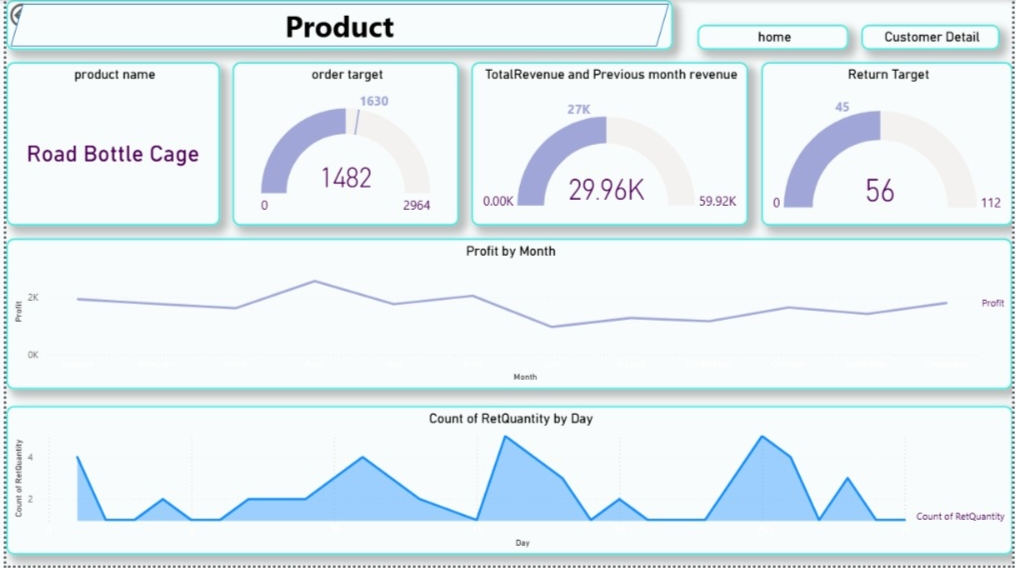

This screenshot's page, from the dashboard's own definition file:
{"tool":"powerbi","page":{"name":"product","canvas":[1280,720],"ordinal":2},"visuals":[{"type":"card","title":"product name","fields":{"Values":["Min(Products_Dim.ProductName)"]},"box":[0,80,272,208],"z":0},{"type":"gauge","title":"order target","fields":{"TargetValue":["Dax_measure.order target guage"],"Y":["Dax_measure.Privious month order"]},"box":[288,80,288,208],"z":1000},{"type":"gauge","fields":{"Y":["Dax_measure.TotalRevenue"],"TargetValue":["Dax_measure.Previous month revenue"]},"box":[592,80,352,208],"z":2000},{"type":"lineChart","fields":{"Y":["Dax_measure.Profit"],"Category":["Calendar_Dim.Start of Week.Variation.Date Hierarchy.Year","Calendar_Dim.Start of Week.Variation.Date Hierarchy.Quarter","Calendar_Dim.Start of Week.Variation.Date Hierarchy.Month","Calendar_Dim.Start of Week.Variation.Date Hierarchy.Day"]},"box":[0,304,1280,192],"z":3000},{"type":"actionButton","box":[0,0,100,40],"z":4000},{"type":"areaChart","fields":{"Category":["Calendar_Dim.Start of Week.Variation.Date Hierarchy.Year","Calendar_Dim.Start of Week.Variation.Date Hierarchy.Quarter","Calendar_Dim.Start of Week.Variation.Date Hierarchy.Month","Calendar_Dim.Start of Week.Variation.Date Hierarchy.Day"],"Y":["CountNonNull(Returns_Fact.RetQuantity)"]},"box":[0,516.9,1280.4,189.3],"z":5000},{"type":"gauge","title":"Return Target","fields":{"Y":["Sum(Returns_Fact.RetQuantity)"],"TargetValue":["Dax_measure.previous month return target guage"]},"box":[960,80,320,208],"z":6000},{"type":"actionButton","title":"home","box":[880,32,192,32],"z":7000},{"type":"actionButton","title":"Customer Detail","box":[1088,32,176,32],"z":8000},{"type":"shape","box":[0,0,848,64],"z":9000}]}

Visuals, with their boxes in screenshot pixels (x1, y1, x2, y2), scaled from the page's 1280x720 canvas onto the 1016x568 screenshot:
"product name" card: 0,63,216,227
"order target" gauge: 229,63,457,227
gauge - Dax_measure.TotalRevenue x Dax_measure.Previous month revenue: 470,63,749,227
lineChart - Dax_measure.Profit x Calendar_Dim.Start of Week.Variation.Date Hierarchy.Year: 0,240,1015,391
actionButton: 0,0,79,32
areaChart - Calendar_Dim.Start of Week.Variation.Date Hierarchy.Year x Calendar_Dim.Start of Week.Variation.Date Hierarchy.Quarter: 0,408,1015,557
"Return Target" gauge: 762,63,1015,227
"home" actionButton: 698,25,851,50
"Customer Detail" actionButton: 864,25,1003,50
shape: 0,0,673,50
